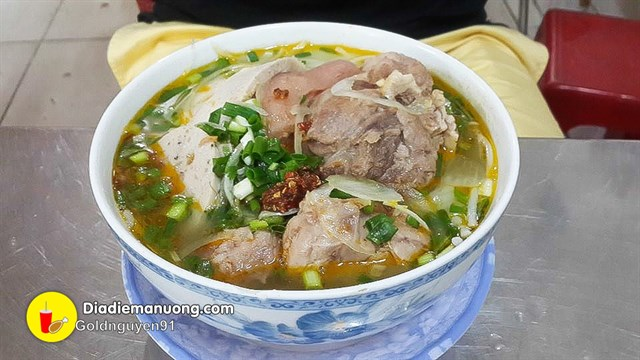onion: (233, 140, 298, 201)
pork: (274, 50, 436, 173), (284, 203, 434, 268)
